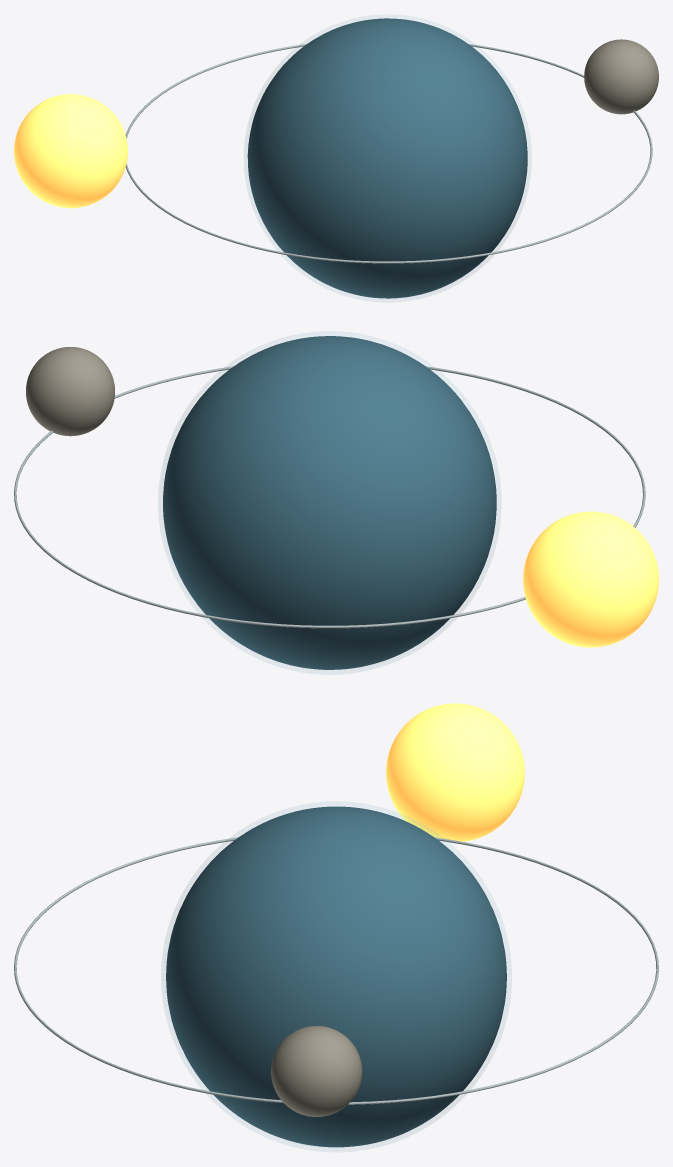
File: exoplanet.glb
The picture shows the model from 3 angles, top to bottom: view 1: azimuth 30°, elevation 25°; view 2: azimuth 150°, elevation 25°; view 3: azimuth 270°, elevation 25°; orthographic projection. The views are drawn at different scales.
Parts seen in each view (by area): view 1: Main assembly, Host star; view 2: Main assembly, Host star; view 3: Main assembly, Host star.
Part boxes in pixels (bbox=[...]): Main assembly: bbox=[125, 18, 658, 298]; Host star: bbox=[14, 94, 127, 208]; Main assembly: bbox=[14, 336, 645, 669]; Host star: bbox=[523, 511, 658, 647]; Main assembly: bbox=[14, 802, 658, 1151]; Host star: bbox=[386, 703, 524, 841].
Size of the model in its own units: 4.08 by 1.77 by 3.25.
